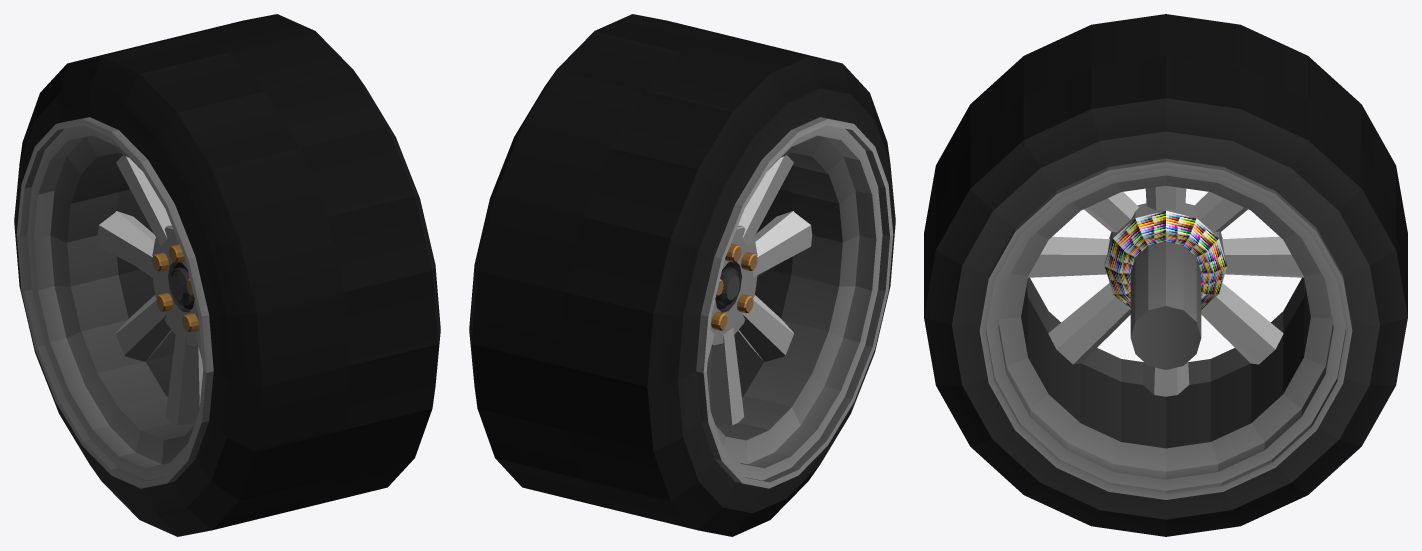
File: ToyotaWheel.glb
3 renders of one model, left to right at view 1: azimuth 30°, elevation 25°; view 2: azimuth 150°, elevation 25°; view 3: azimuth 270°, elevation 25°, orthographic.
Parts seen in each view (by area): view 1: Wheel1; view 2: Wheel1; view 3: Wheel1.
Boxes of the visible parts, x1=… form: Wheel1: x1=14, y1=14, x2=440, y2=536; Wheel1: x1=469, y1=14, x2=895, y2=536; Wheel1: x1=924, y1=14, x2=1407, y2=536.
Size of the model in its own units: 1.52 by 2.63 by 2.63.
Materials: 1 (1 with a texture image).
